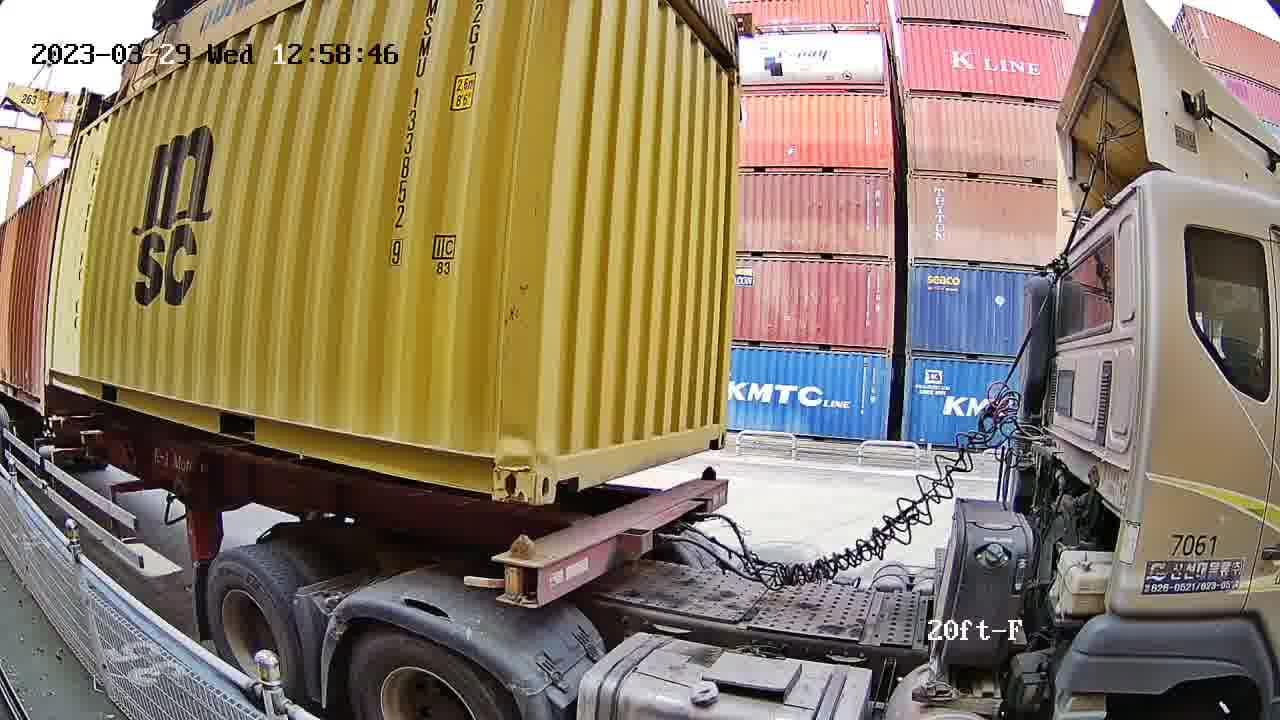Chassis: (490, 478, 726, 607)
Cone: (495, 533, 537, 607), (697, 465, 717, 484)
Hole_L: (532, 427, 589, 504)
Hole_R: (464, 427, 536, 503), (700, 411, 727, 452)
Tire: (208, 551, 306, 711), (344, 635, 502, 717)
